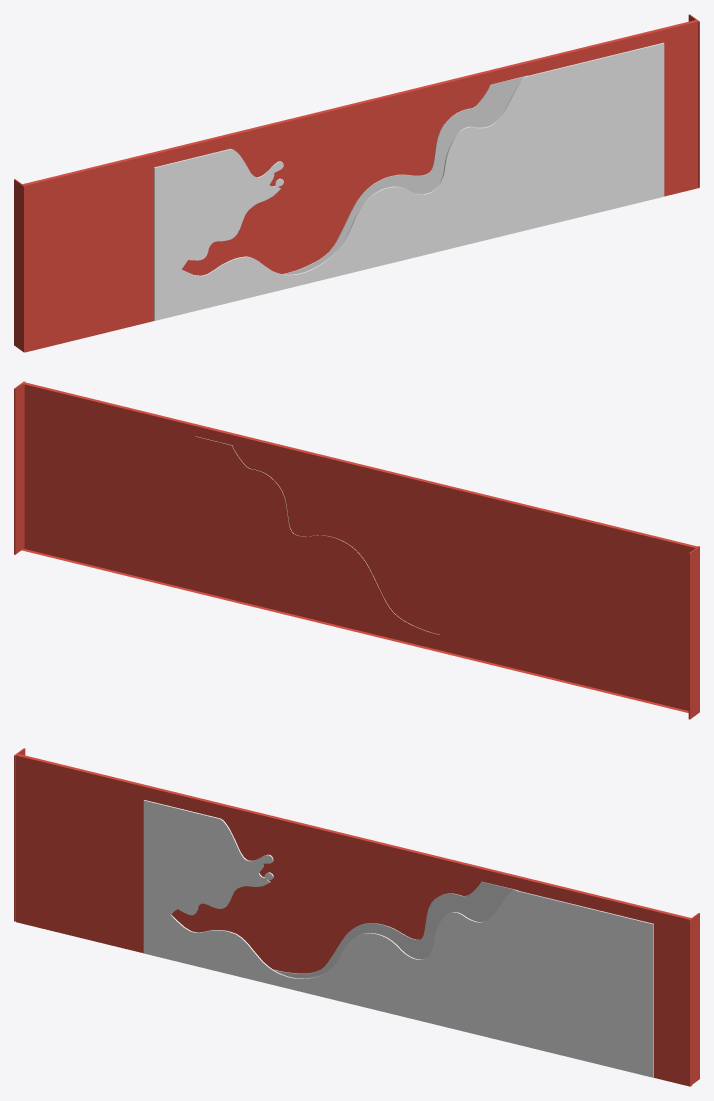
Rendered from EntranceImage.fbx.
3 renders of one model, top to bottom at view 1: azimuth 30°, elevation 25°; view 2: azimuth 150°, elevation 25°; view 3: azimuth 330°, elevation 25°, orthographic.
Visible parts, largest first — view 1: RedBoard, EntranceImage; view 2: RedBoard; view 3: RedBoard, EntranceImage.
Boxes of the visible parts, x1,y1,x2,y2 form: RedBoard: (14, 14, 699, 352); EntranceImage: (154, 42, 664, 320); RedBoard: (14, 381, 699, 719); RedBoard: (14, 748, 699, 1086); EntranceImage: (143, 800, 653, 1077).
Bounding box in the file's own units: 1276 × 301 × 34.42.
